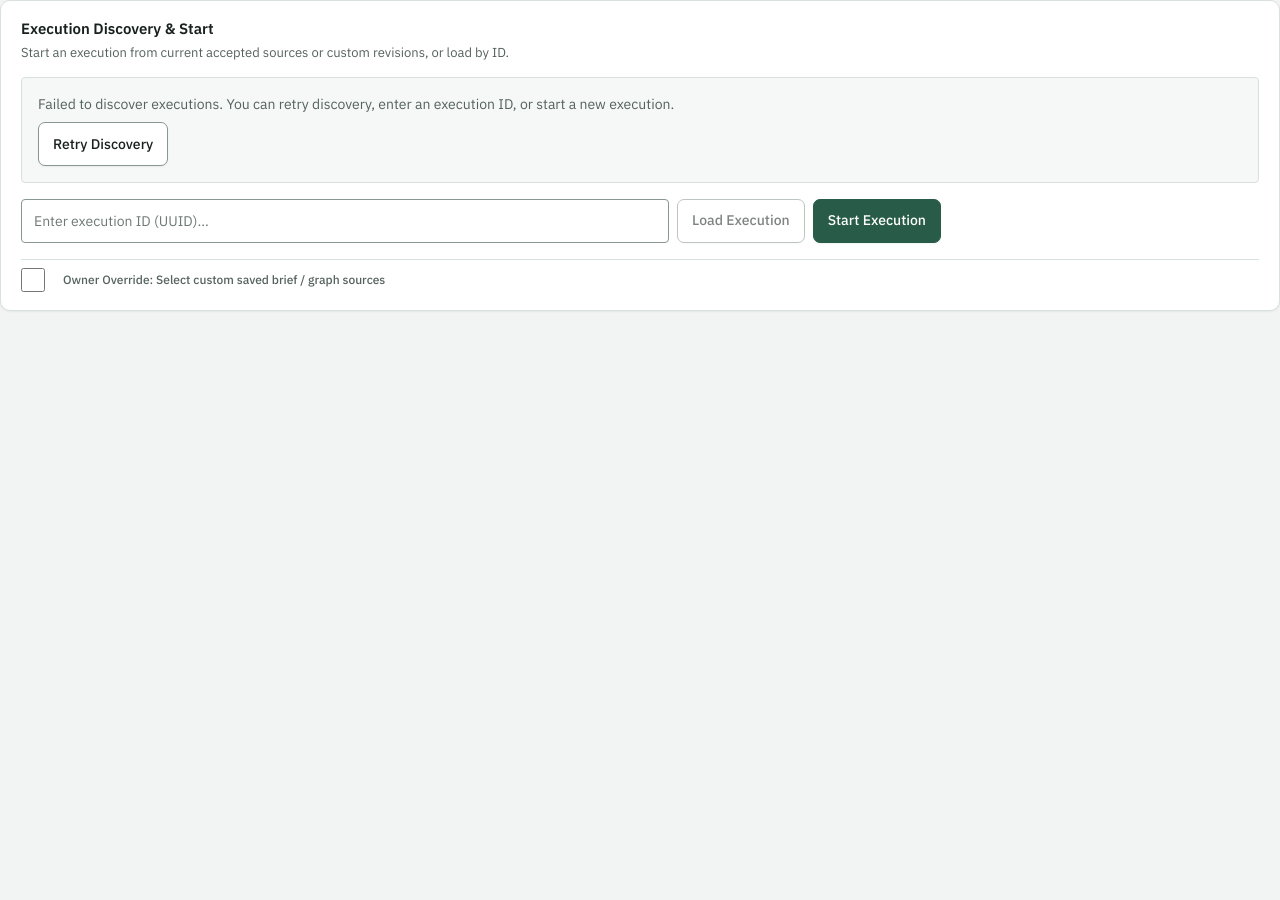
Test case: DeliveryWorkspace › retains the execution URL after start
The width and height of the screenshot is (1280, 900).
Click the button "Start Execution" at (877, 221), box [813,199,941,243]
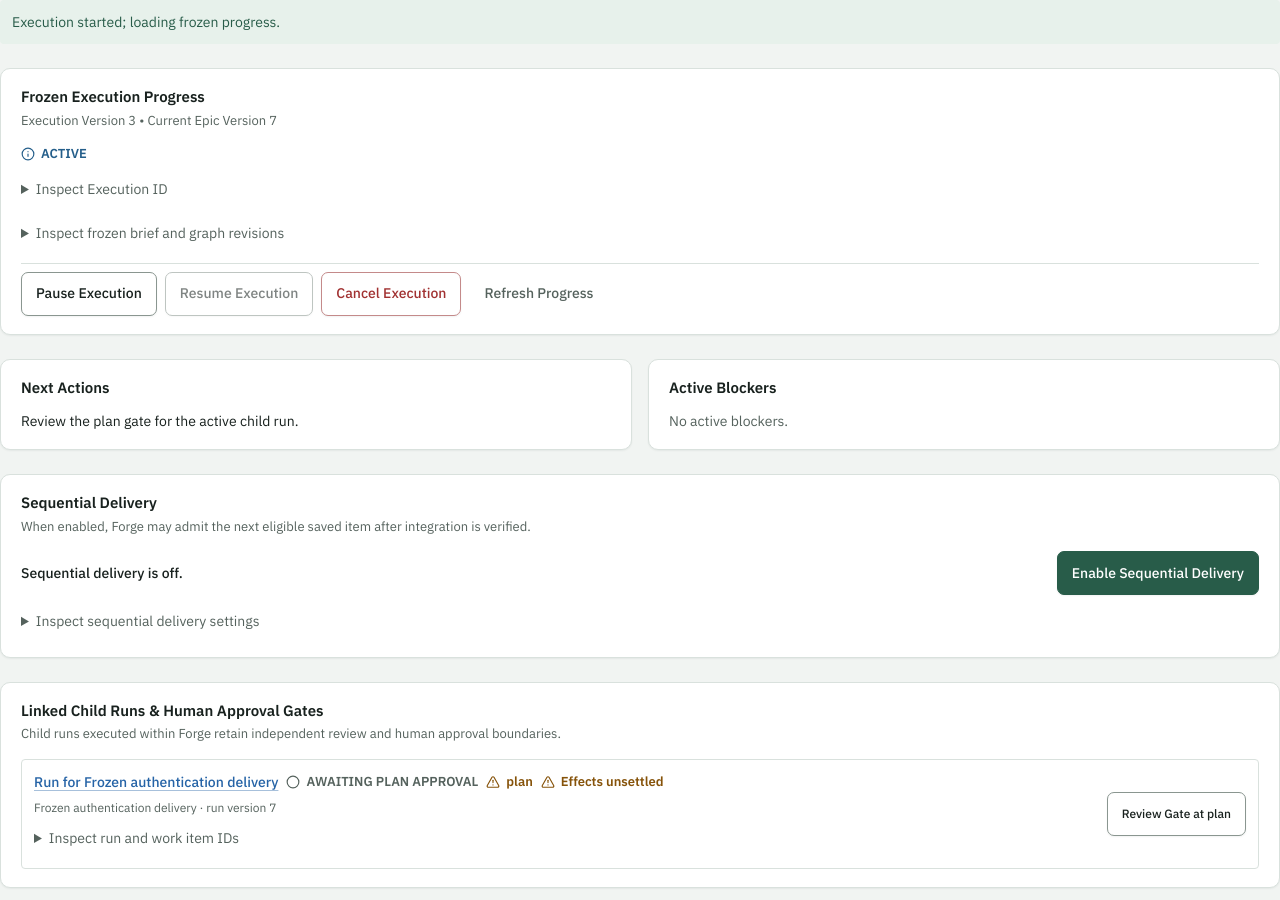
Expected: the message reads "Execution started; loading frozen progress.", [12,13,280,31]
Expected: the text "ACTIVE" is shown, [21,145,87,163]
